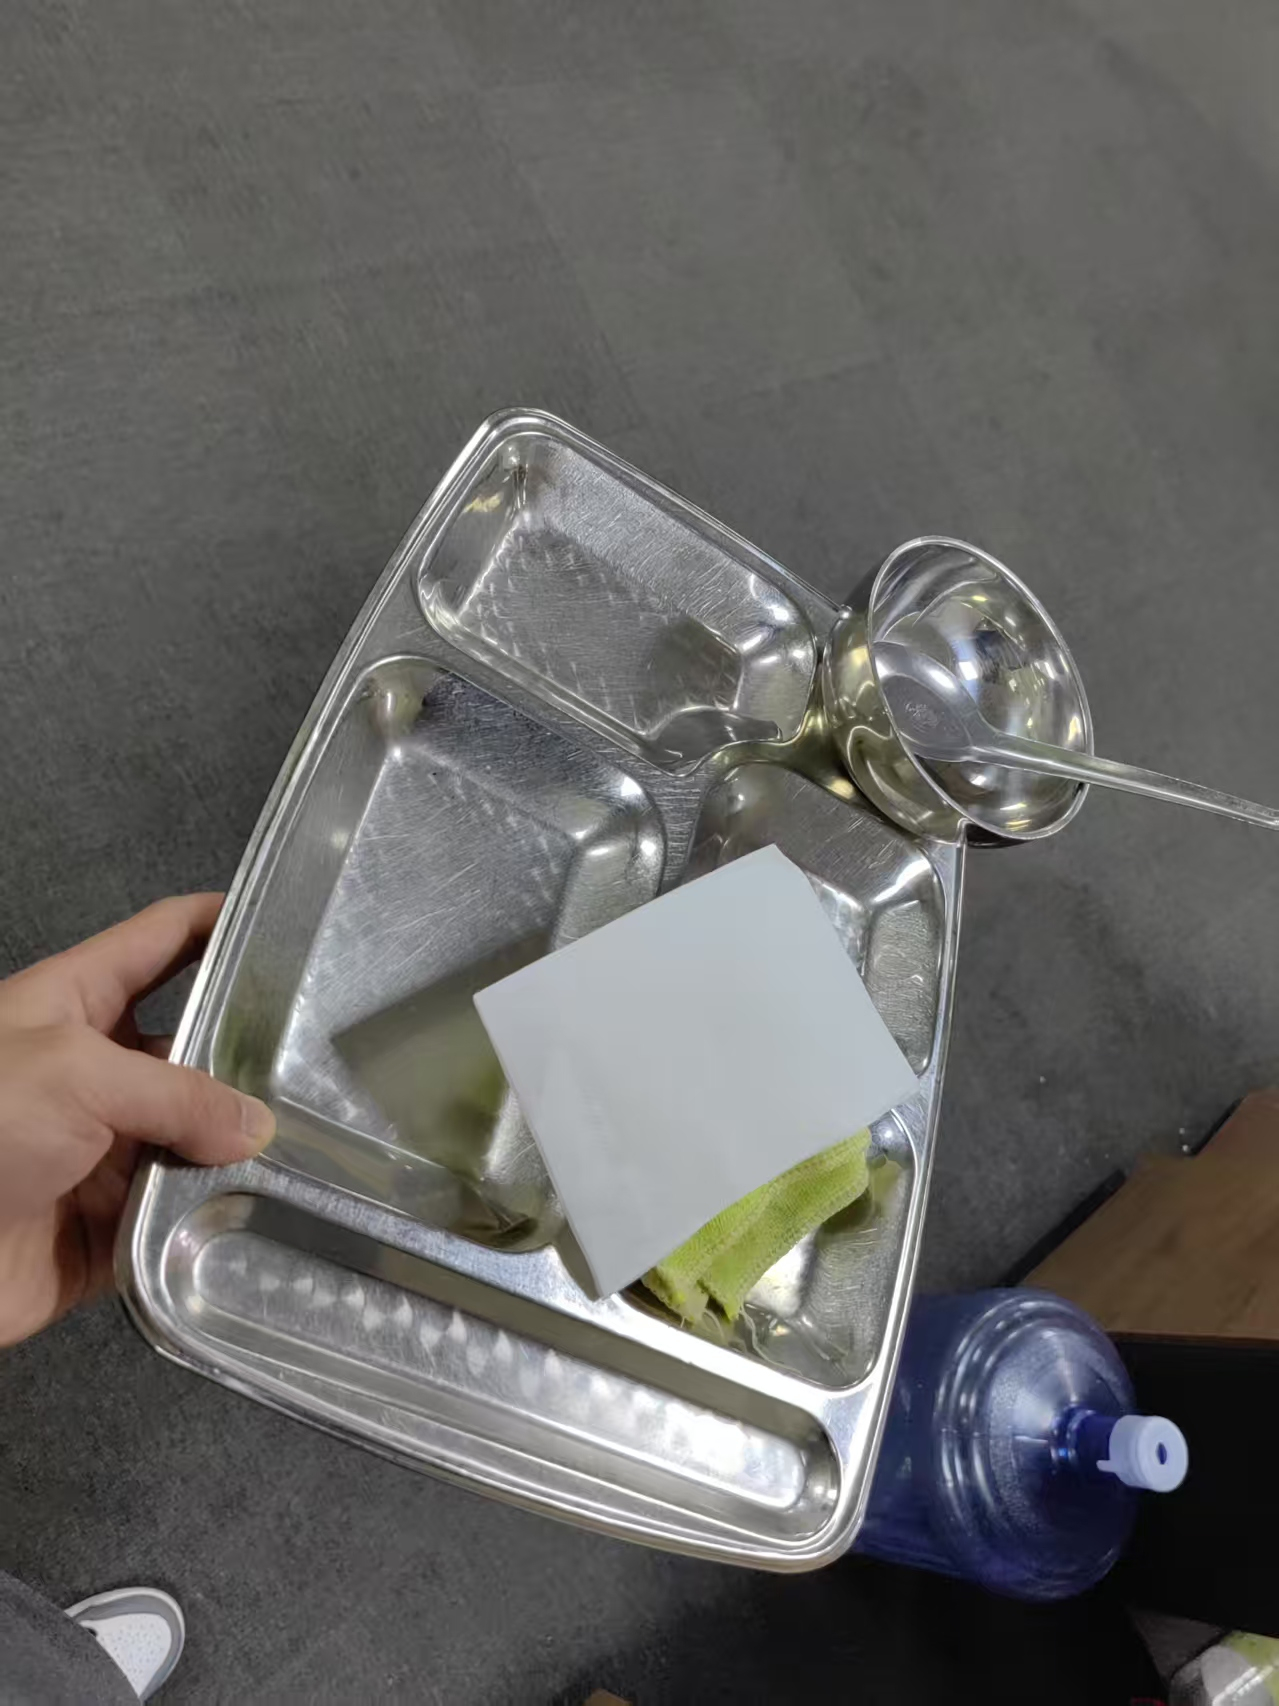mild: (564, 1003, 875, 1321)
plate: (116, 403, 975, 1577)
tissue: (472, 841, 921, 1295)
